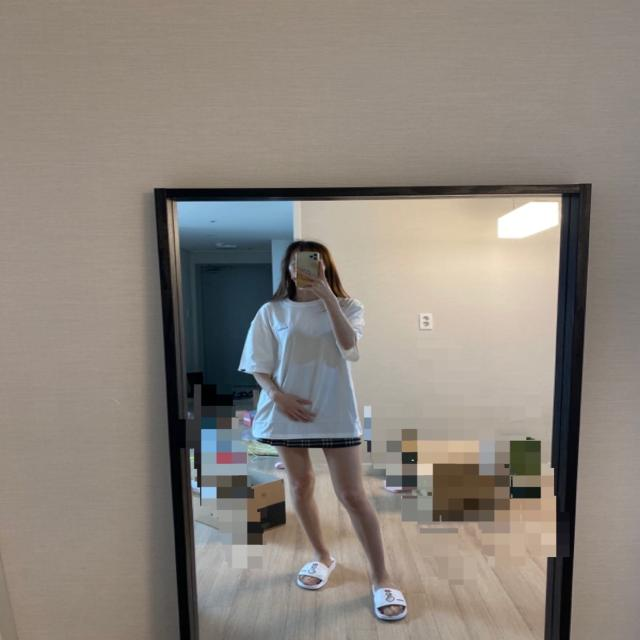shortsleeve: (237, 297, 363, 446)
